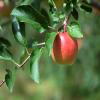Apple leaf: (8, 4, 52, 32), (28, 45, 46, 88), (11, 17, 29, 50), (4, 64, 19, 94), (45, 28, 60, 57), (64, 20, 86, 39)
